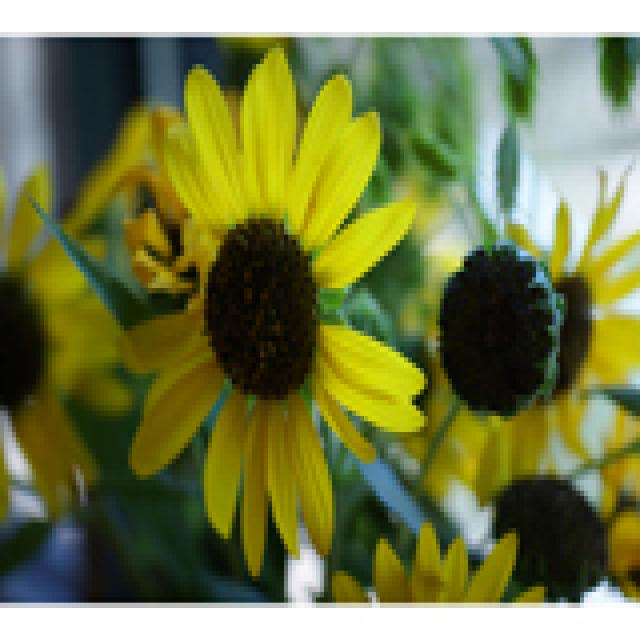sunflower: (107, 39, 438, 589), (398, 162, 611, 497), (460, 158, 640, 497), (0, 149, 136, 539), (412, 387, 640, 603), (346, 150, 488, 398), (308, 502, 556, 613), (371, 281, 485, 486)
